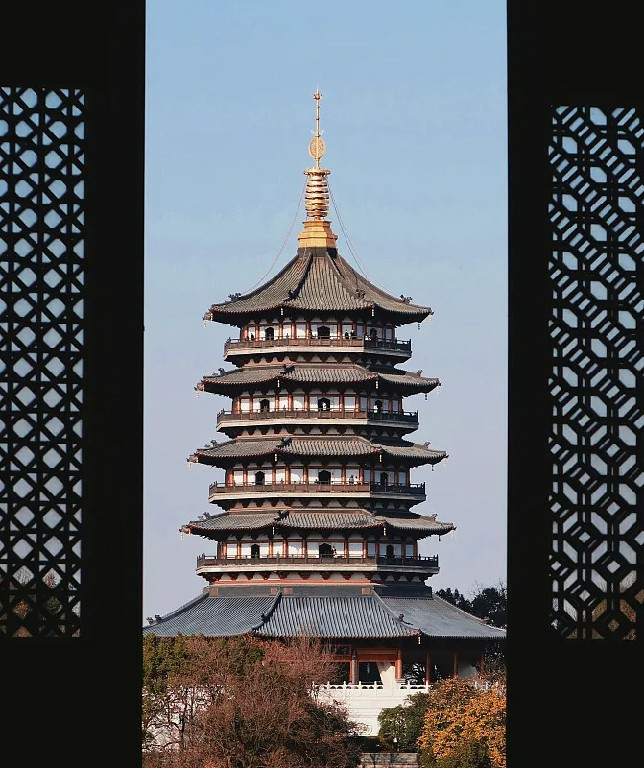Leifeng: (178, 89, 457, 702)
